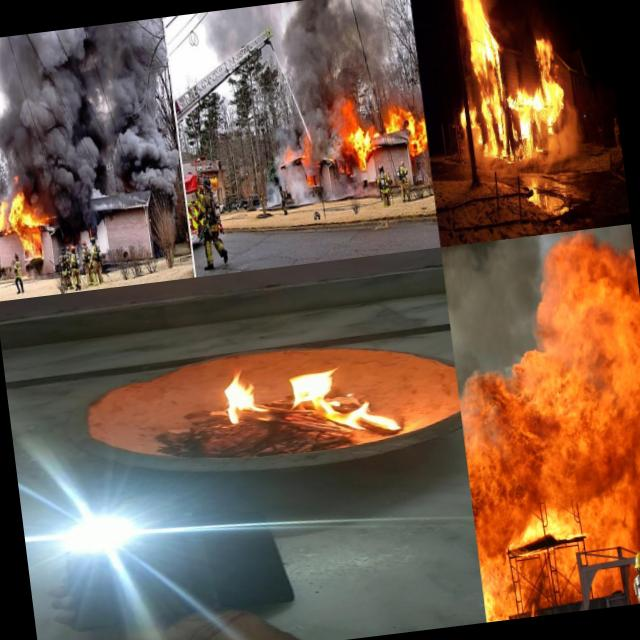fire: (456, 355, 640, 614), (212, 351, 396, 450), (523, 223, 640, 367), (450, 0, 567, 135), (380, 100, 430, 164), (0, 196, 44, 261), (341, 97, 376, 173), (480, 127, 542, 158), (508, 606, 554, 619), (282, 144, 304, 166), (456, 104, 468, 128)
smoke: (0, 16, 188, 201), (441, 236, 538, 374), (285, 0, 347, 161), (328, 0, 398, 90), (200, 2, 290, 51), (466, 150, 546, 186), (38, 191, 96, 237), (539, 124, 586, 172), (322, 170, 378, 200), (135, 180, 178, 212), (260, 160, 286, 206), (282, 165, 310, 205), (458, 134, 482, 160), (564, 96, 580, 124)
